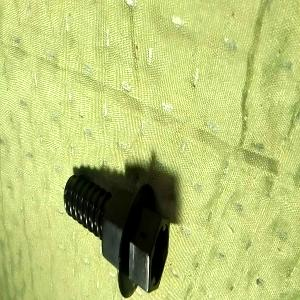parafuso: (63, 174, 170, 298)
